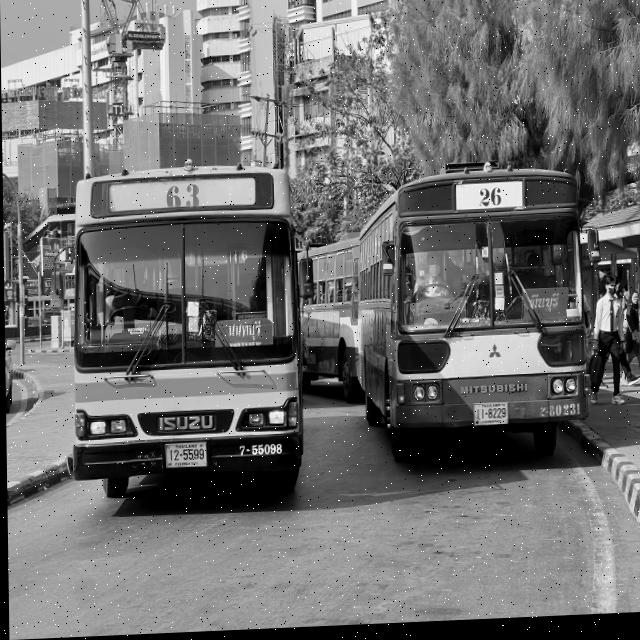BMTA-bus: (68, 170, 303, 499), (359, 172, 592, 462), (300, 236, 362, 410)
Bus Line Number: (158, 180, 204, 216), (473, 186, 505, 217)
Bus Side Number: (230, 439, 288, 462), (534, 405, 582, 427)
Destination Sign: (213, 319, 274, 350), (520, 289, 568, 323)
